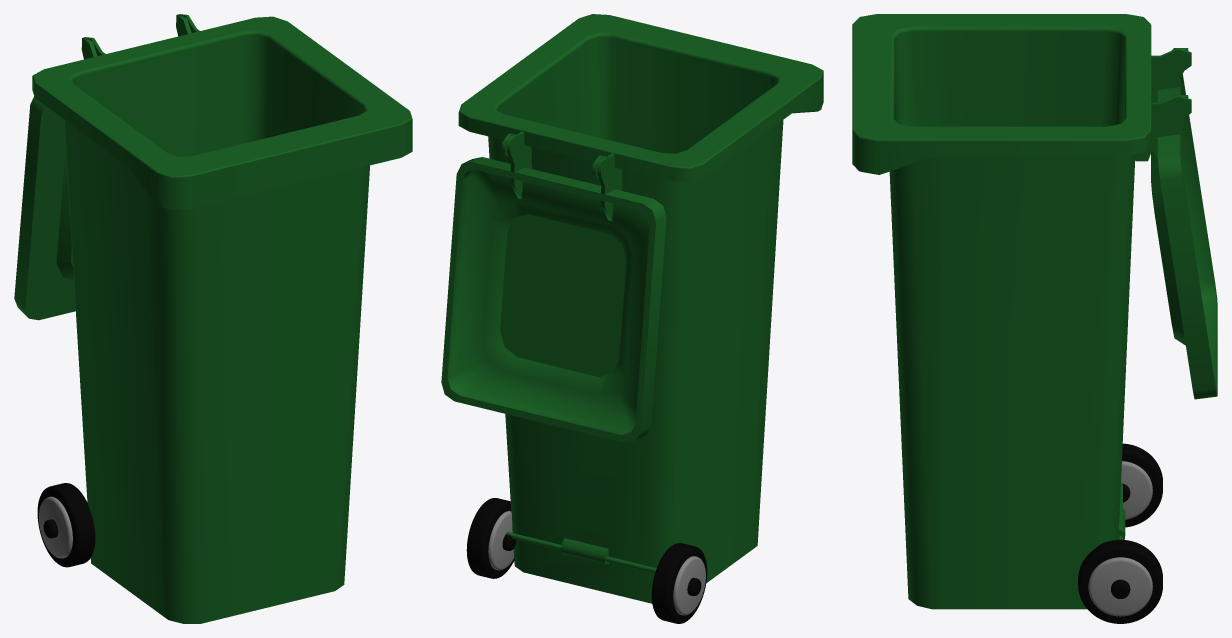
Rendered from bin 2.fbx.
3 views of the same model, side by side, from view 1: azimuth 30°, elevation 25°; view 2: azimuth 150°, elevation 25°; view 3: azimuth 270°, elevation 25° (orthographic). The views are drawn at different scales.
Parts seen in each view (by area): view 1: Trashbin, TrashbinLid, Cylinder.017; view 2: Trashbin, TrashbinLid, Cylinder.017, Cylinder.020; view 3: Trashbin, TrashbinLid, Cylinder.020, Cylinder.017.
Boxes of the visible parts, x1,y1,x2,y2 form: Trashbin: [32, 14, 412, 623]; TrashbinLid: [14, 14, 191, 320]; Cylinder.017: [37, 483, 95, 567]; Trashbin: [458, 14, 823, 603]; TrashbinLid: [441, 134, 666, 442]; Cylinder.017: [651, 543, 707, 623]; Cylinder.020: [466, 498, 516, 578]; Trashbin: [852, 14, 1191, 609]; TrashbinLid: [1151, 48, 1217, 399]; Cylinder.020: [1078, 539, 1162, 623]; Cylinder.017: [1121, 443, 1162, 527].
Bounding box in the file's own units: 511 × 948 × 625.
